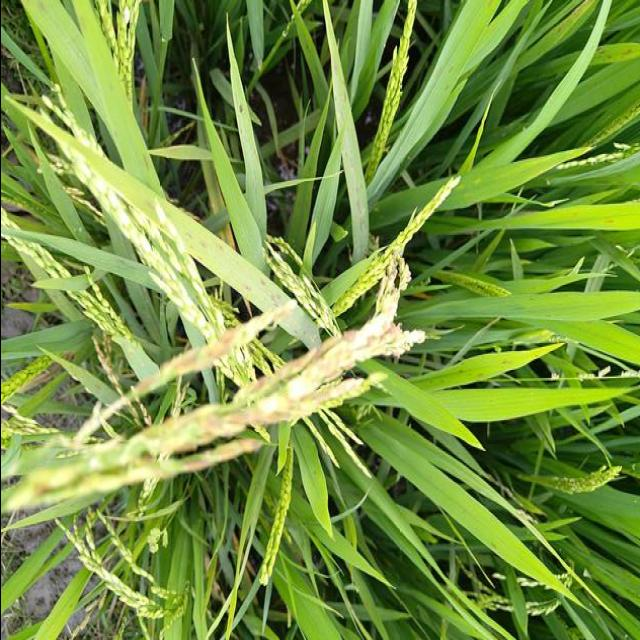Panicle Blight: (162, 278, 423, 471), (133, 302, 294, 394)
